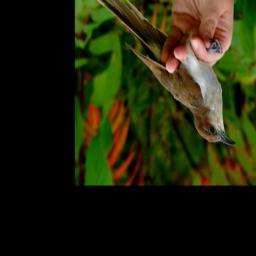Cuckoo: (90, 0, 237, 146)
